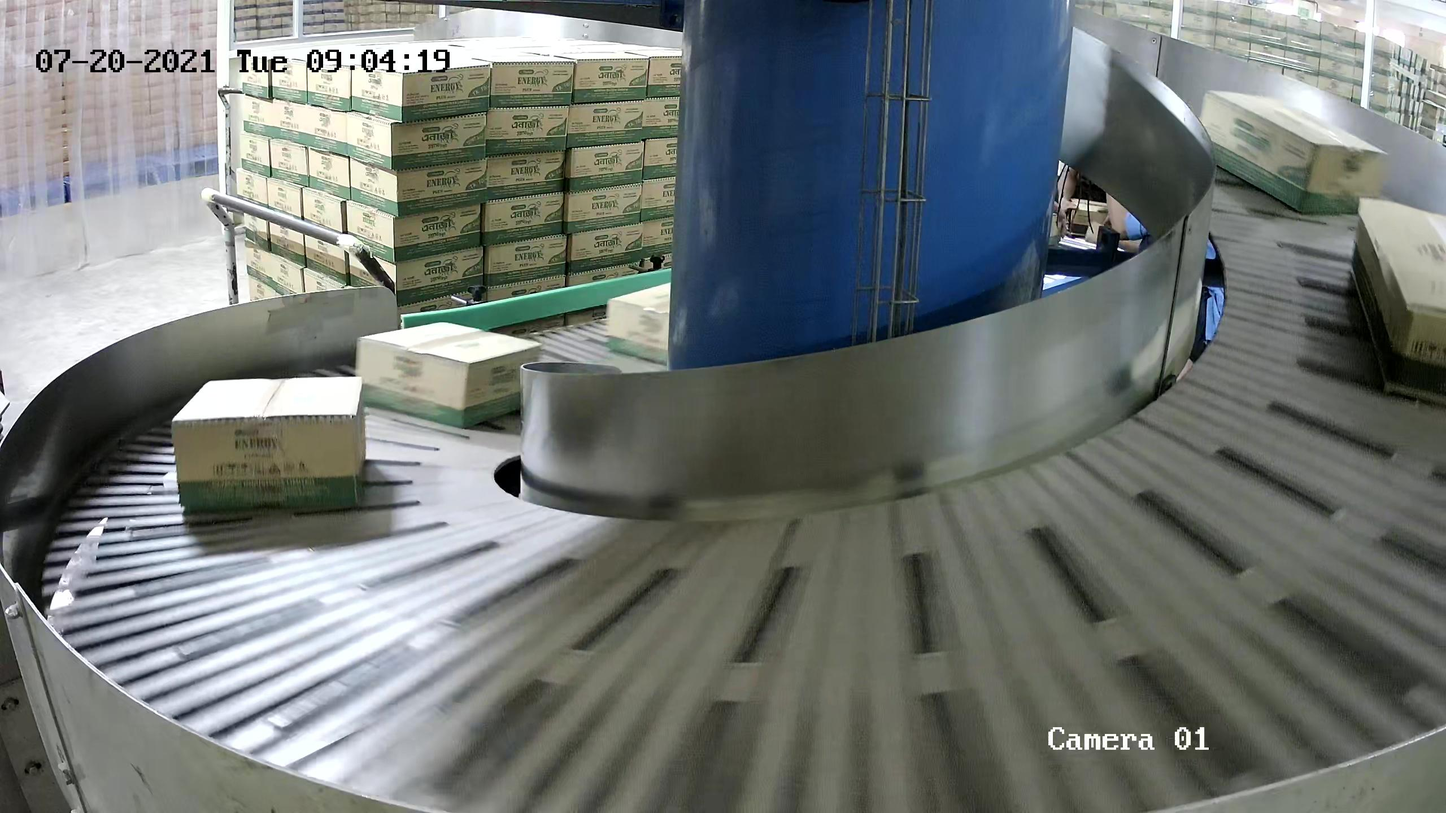Box: (171, 373, 369, 520), (1191, 88, 1381, 220), (352, 320, 543, 433), (1346, 196, 1446, 410), (607, 261, 751, 377)
